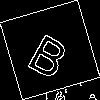B: (24, 24, 77, 81)
